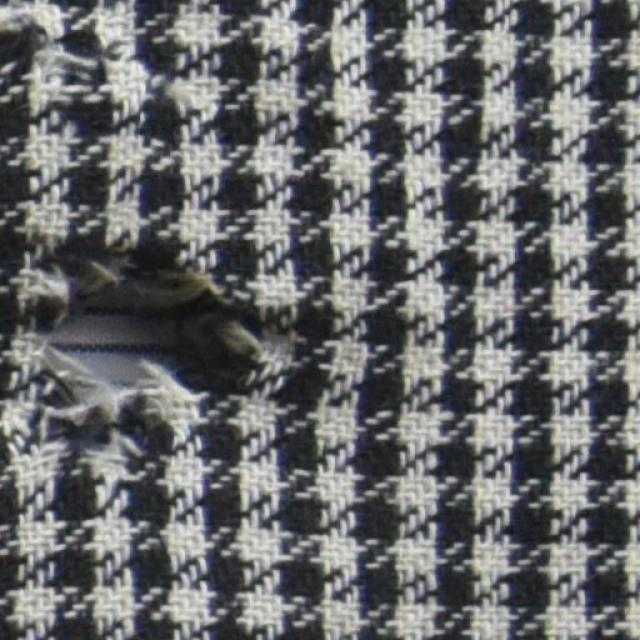Hole: (63, 284, 205, 385)
Snag: (12, 235, 213, 473)
